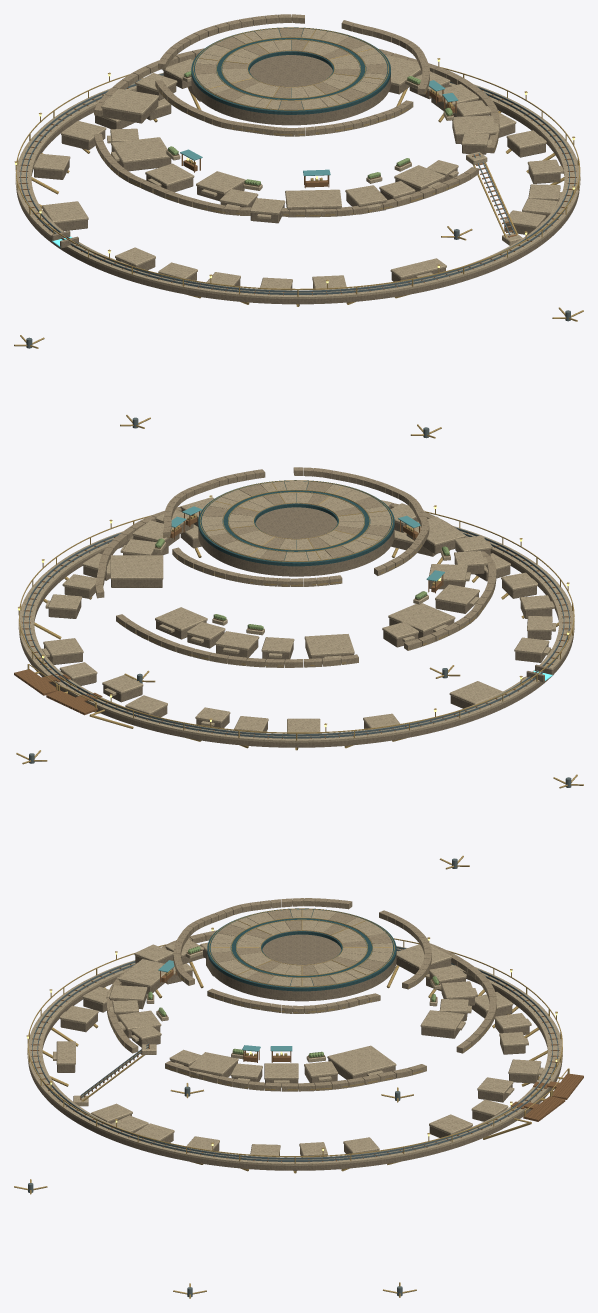
Rendered from architecture.glb.
3 views of the same model, one above another, from view 1: azimuth 30°, elevation 25°; view 2: azimuth 150°, elevation 25°; view 3: azimuth 270°, elevation 25° (orthographic). The views are drawn at different scales.
Visible parts, largest first — view 1: Dressed sandstone, Foundation limestone, Crown warm limestone, Aged brass, Rail iron, Crown teal slate, Dock timber, Market teal canvas; view 2: Dressed sandstone, Foundation limestone, Crown warm limestone, Aged brass, Rail iron, Crown teal slate, Dock timber; view 3: Dressed sandstone, Foundation limestone, Crown warm limestone, Aged brass, Rail iron, Crown teal slate, Dock timber.
Part boxes in pixels (<box>): Dressed sandstone: <box>15,28,580,298</box>; Foundation limestone: <box>16,55,579,304</box>; Crown warm limestone: <box>94,14,499,217</box>; Aged brass: <box>14,27,583,438</box>; Rail iron: <box>20,73,575,438</box>; Crown teal slate: <box>191,27,390,114</box>; Dock timber: <box>19,82,576,295</box>; Market teal canvas: <box>180,80,458,176</box>; Dressed sandstone: <box>18,481,574,742</box>; Foundation limestone: <box>19,505,573,747</box>; Crown warm limestone: <box>95,467,496,667</box>; Aged brass: <box>16,480,583,869</box>; Rail iron: <box>23,527,571,868</box>; Crown teal slate: <box>198,480,394,566</box>; Dock timber: <box>14,511,571,738</box>; Dressed sandstone: <box>27,909,562,1165</box>; Foundation limestone: <box>28,934,562,1170</box>; Crown warm limestone: <box>106,898,496,1091</box>; Aged brass: <box>14,908,569,1298</box>; Rail iron: <box>28,946,558,1297</box>; Crown teal slate: <box>207,908,396,991</box>; Dock timber: <box>30,949,583,1162</box>.
Size of the model in its own units: 1.78 by 0.9114 by 1.88.
12 materials, 4 textured.
